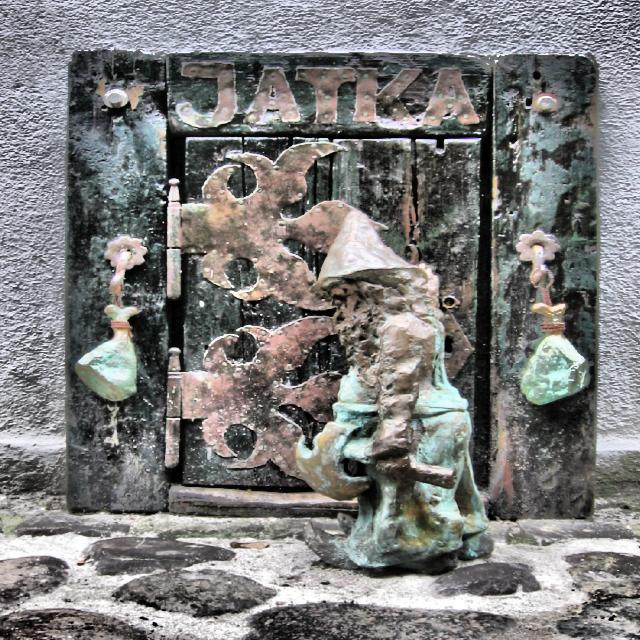Rzeznik: (296, 210, 491, 570)
